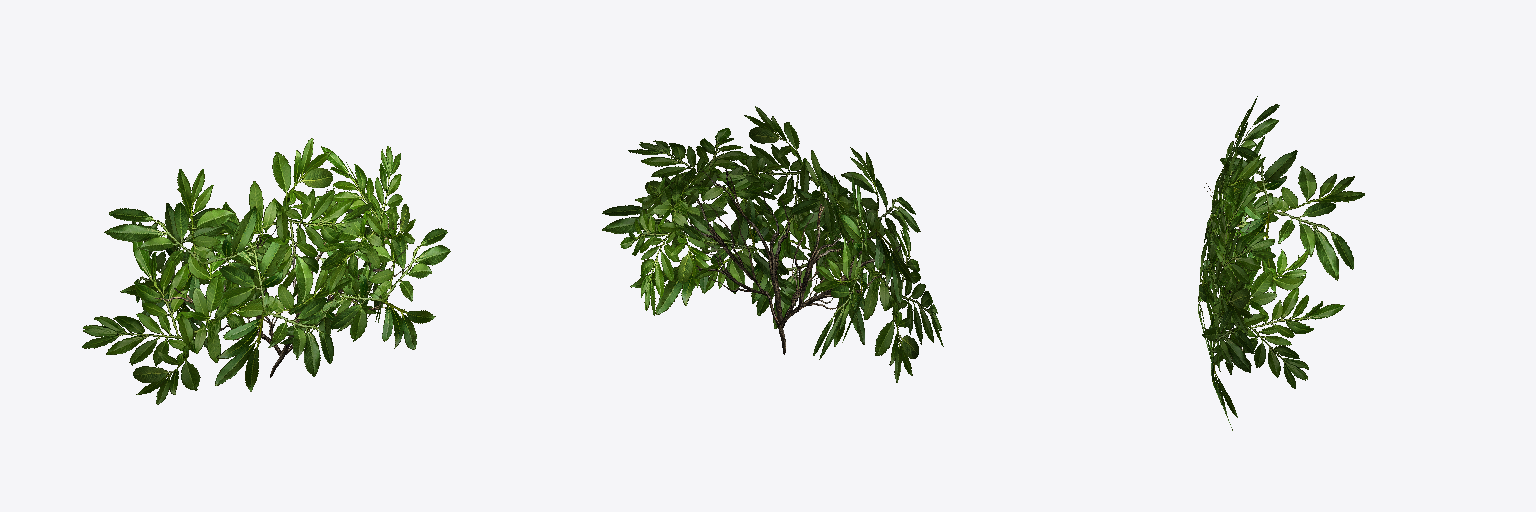
3 views of the same model, side by side, from view 1: azimuth 30°, elevation 25°; view 2: azimuth 150°, elevation 25°; view 3: azimuth 270°, elevation 25° (orthographic).
Parts seen in each view (by area): view 1: bushes02_03; view 2: bushes02_03; view 3: bushes02_03.
Part boxes in pixels (bbox=[...]): bushes02_03: bbox=[82, 138, 450, 404]; bushes02_03: bbox=[602, 106, 943, 382]; bushes02_03: bbox=[1198, 96, 1364, 430].
Size of the model in its own units: 272 by 195 by 107.
Materials: 1 (1 with a texture image).